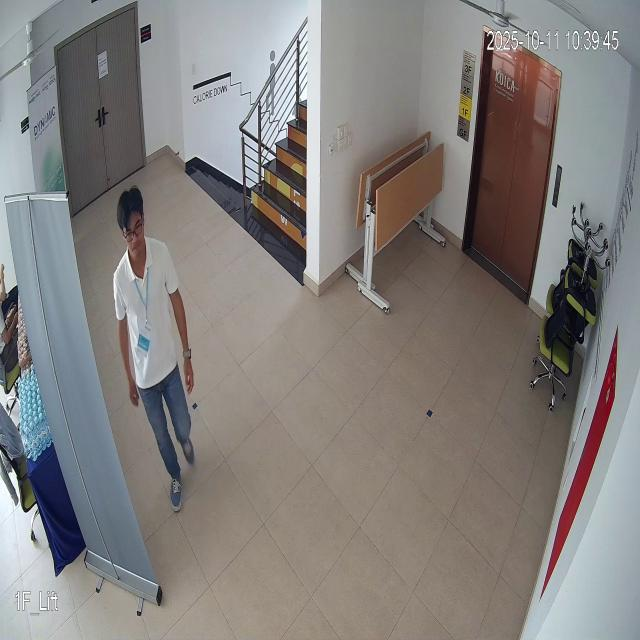face: (112, 173, 154, 259)
